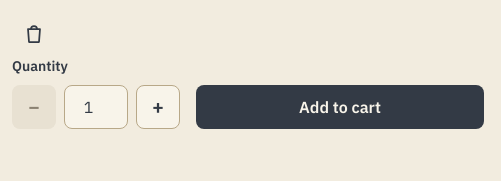
Test: AddToCart › rolls the count back and shows a message when the action fails
The width and height of the screenshot is (501, 181).
Click the button "Add to cart": (340, 107) top-left (196, 85), bottom-right (484, 129)
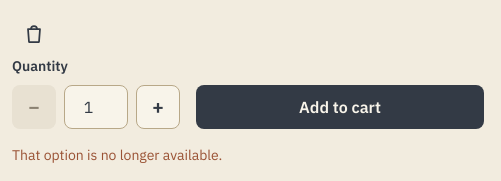
Expected: the button named "Cart, 0 items" is shown, top-left (12, 12), bottom-right (56, 56)
Result: the message "That option is no longer available." is shown at top-left (12, 146), bottom-right (222, 164)
